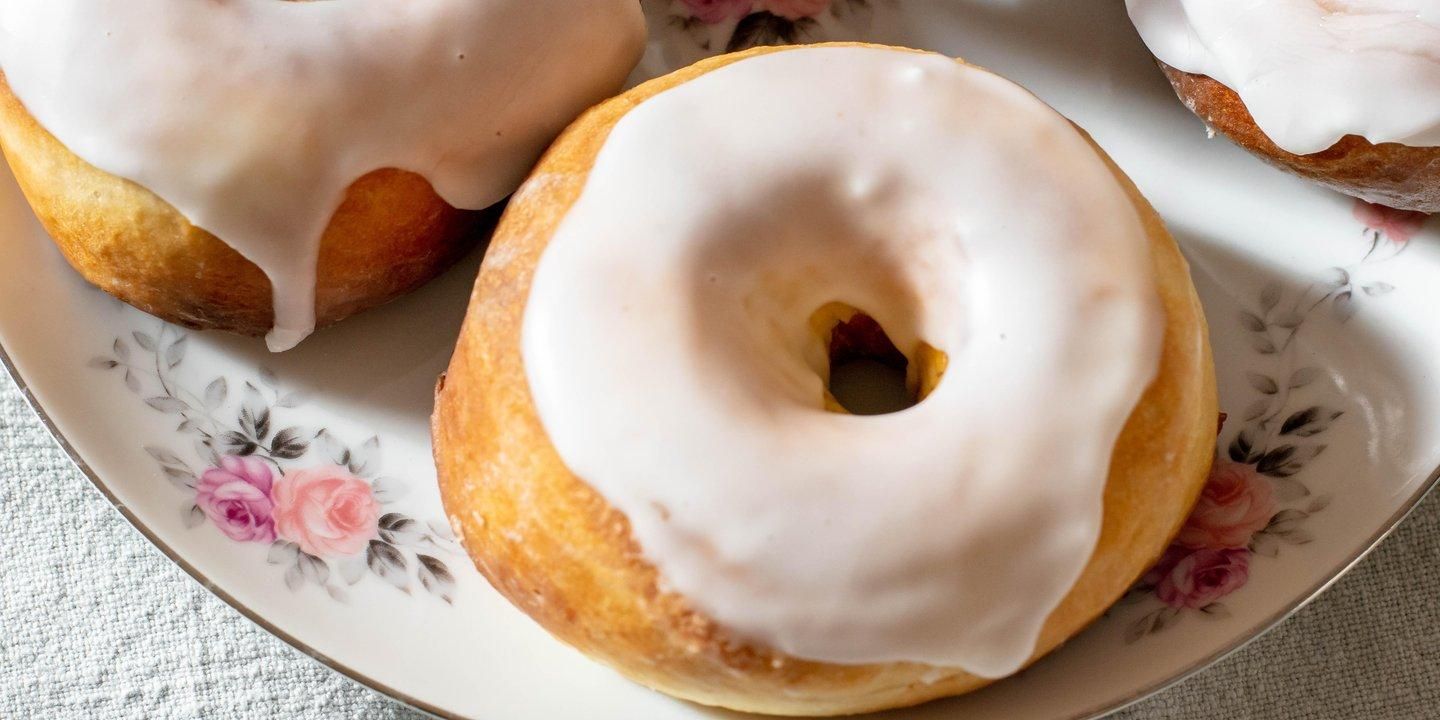donut: (427, 39, 1237, 719)
